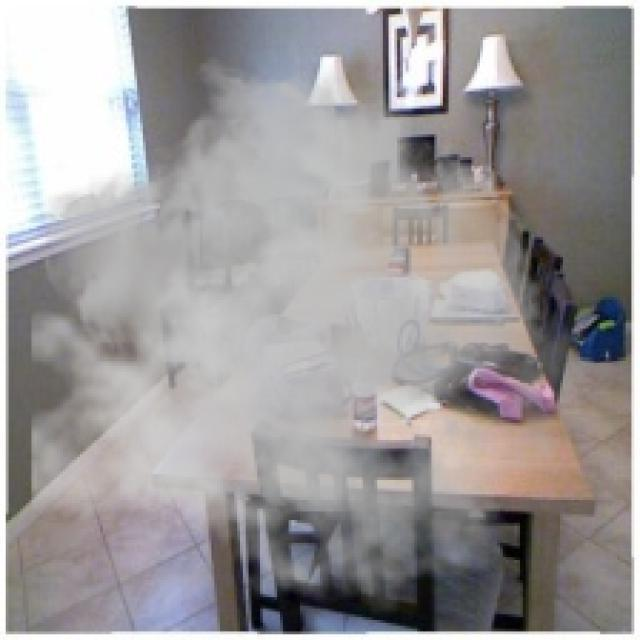Smoke: (31, 54, 588, 617)
